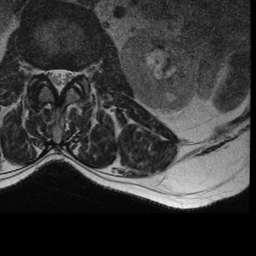CCS_normal: (54, 60, 64, 101)
LFS_severe_stenosis: (73, 60, 82, 85)
LLS_normal: (64, 60, 73, 92)
RFS_stenosis: (35, 58, 44, 84)
RLS_normal: (44, 60, 54, 89)
